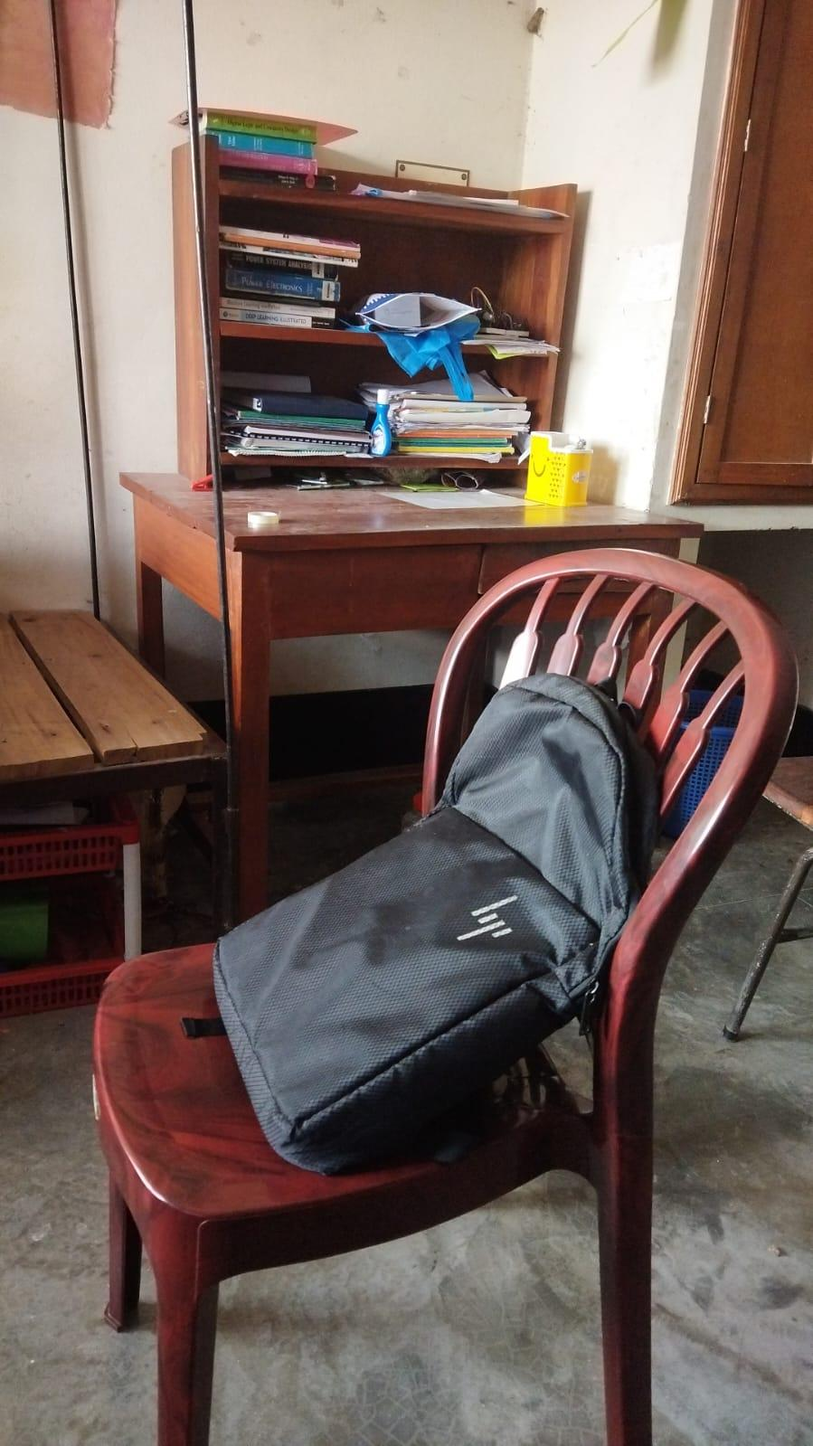Bag: (214, 657, 617, 1180)
Book: (206, 193, 361, 334), (340, 348, 516, 464), (212, 340, 336, 458), (193, 97, 334, 172)
Chair: (92, 525, 777, 1446)
Pen Stand: (523, 422, 598, 516)
Table: (113, 449, 714, 940)
